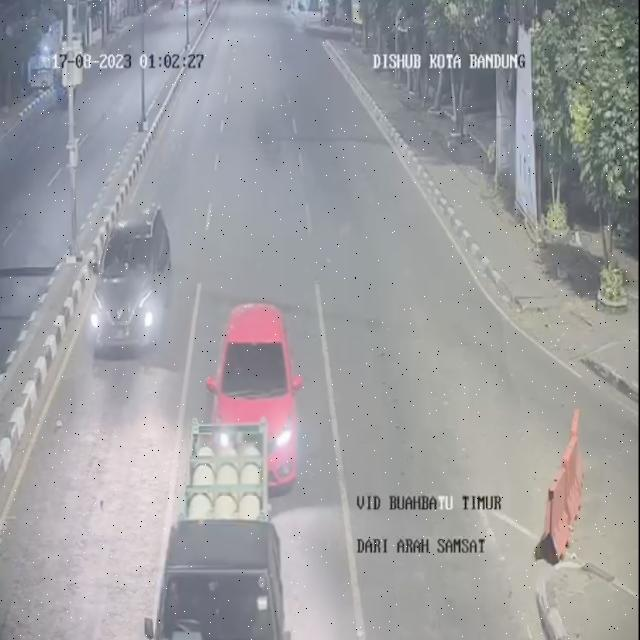cars: (157, 493, 293, 640), (212, 297, 306, 496), (94, 204, 175, 360)
